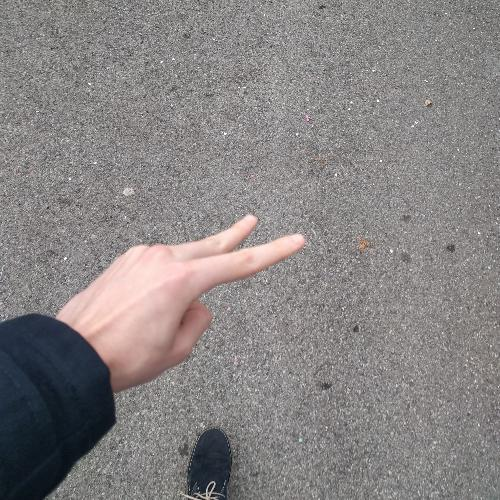scissors: (47, 213, 312, 391)
